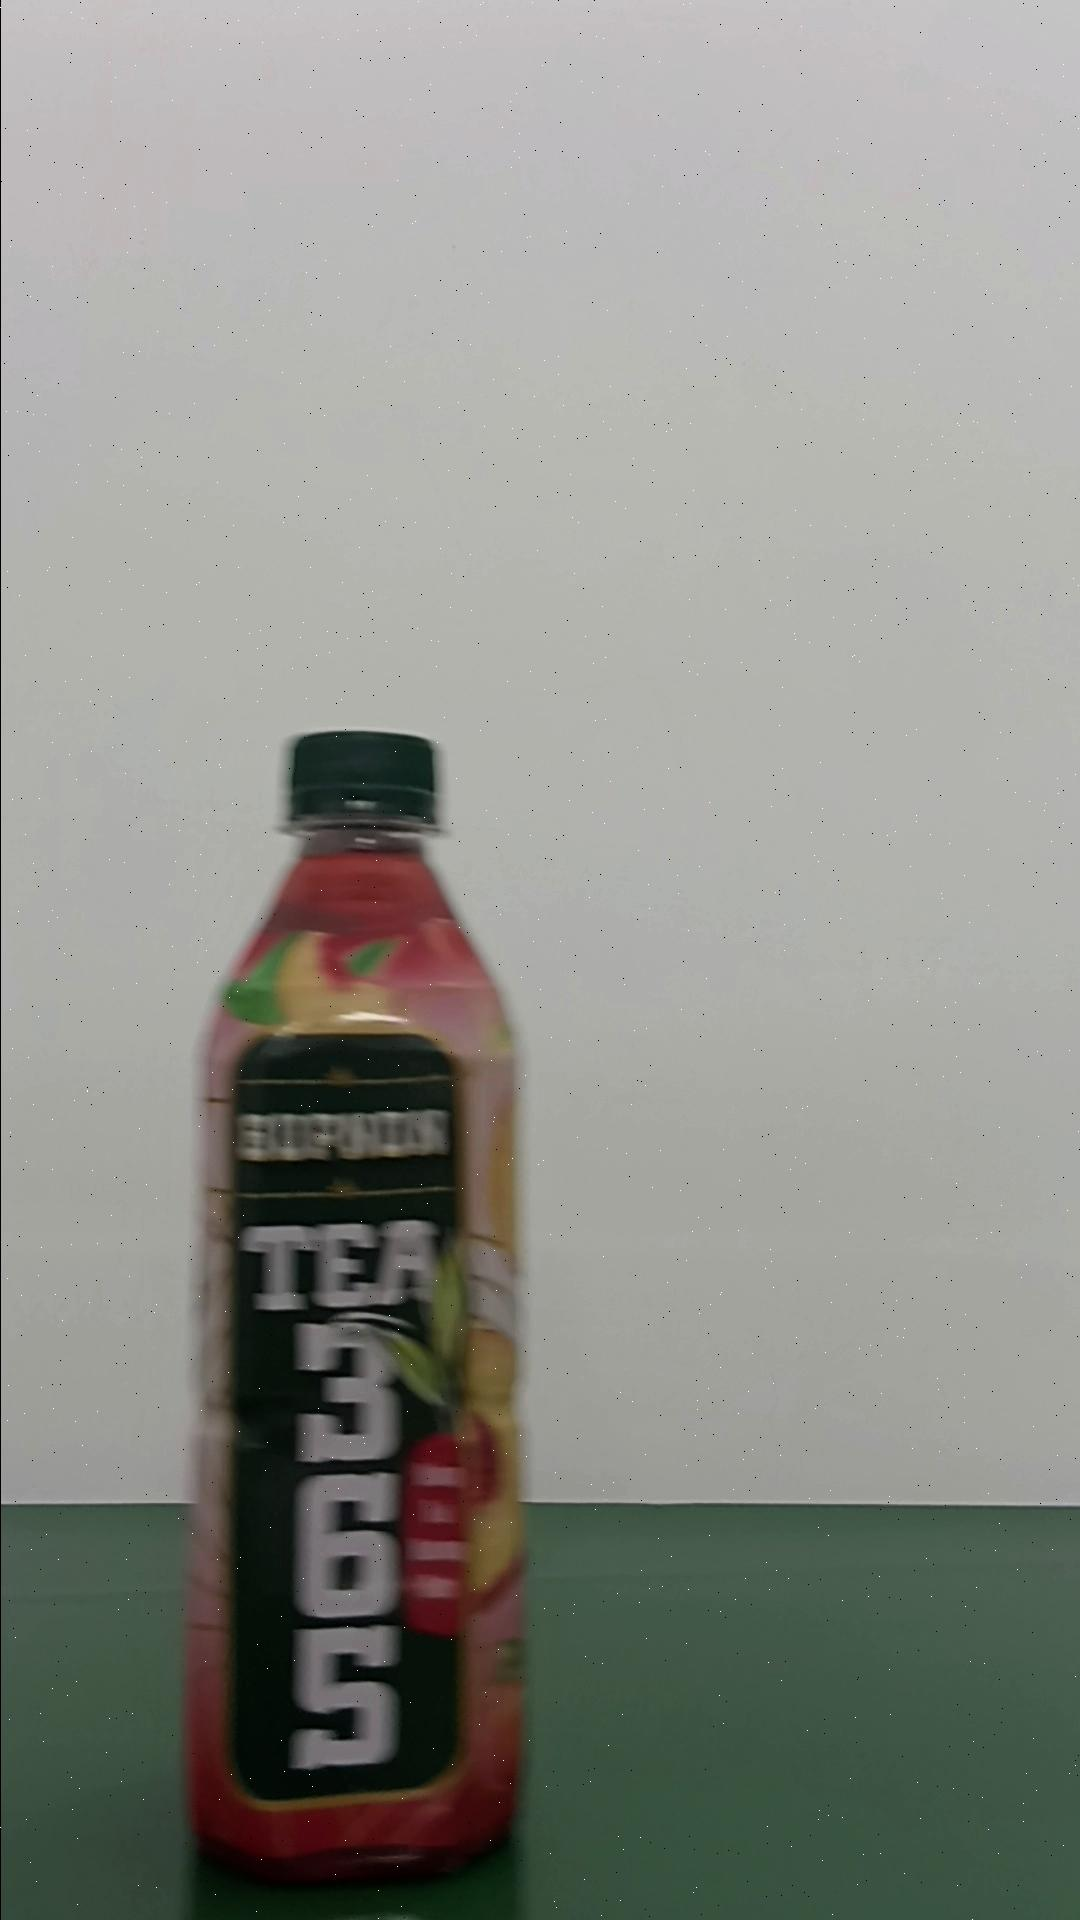khong loi: (182, 727, 530, 1884)
